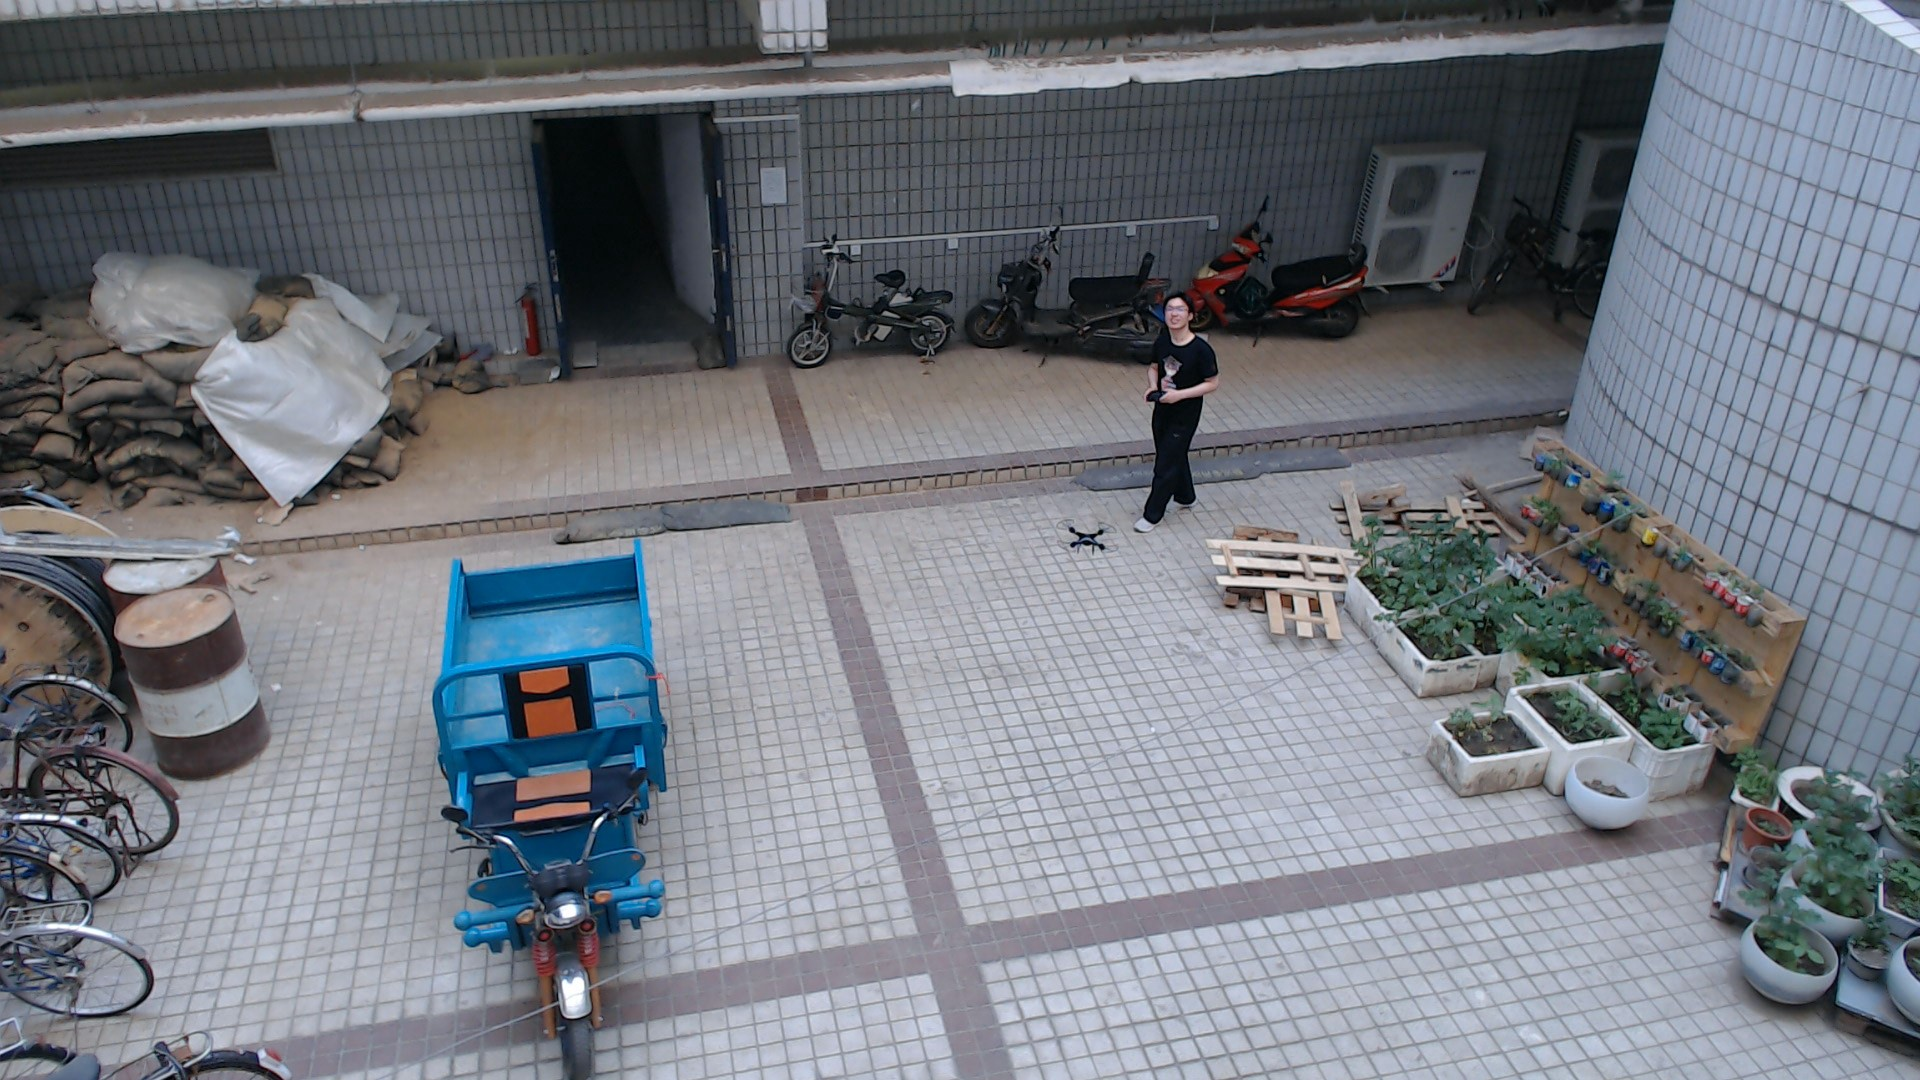drone: (1046, 499, 1120, 571)
person: (1140, 276, 1221, 541)
